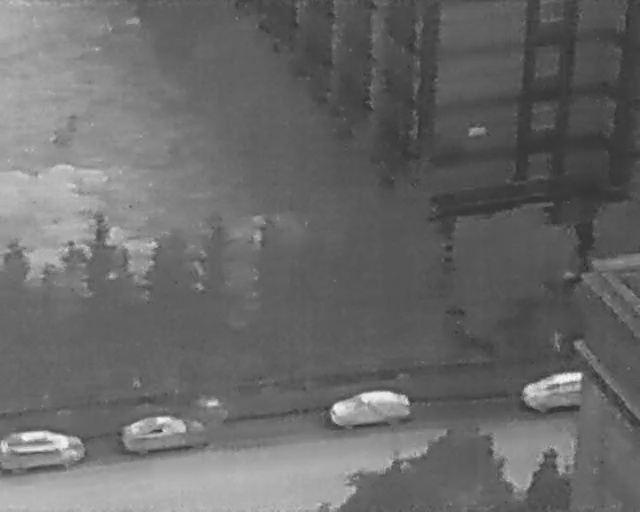Car: (118, 410, 210, 459), (328, 388, 412, 431), (1, 430, 85, 472), (523, 374, 588, 412)
